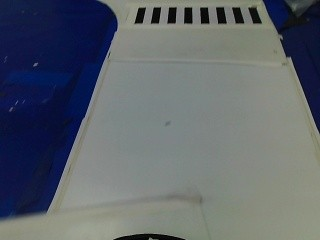crosswalk: (127, 1, 267, 30)
